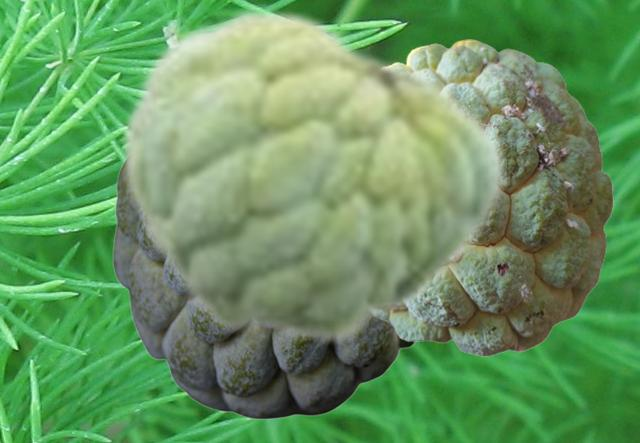atis: (117, 4, 505, 347), (112, 169, 417, 418), (377, 39, 612, 355)
